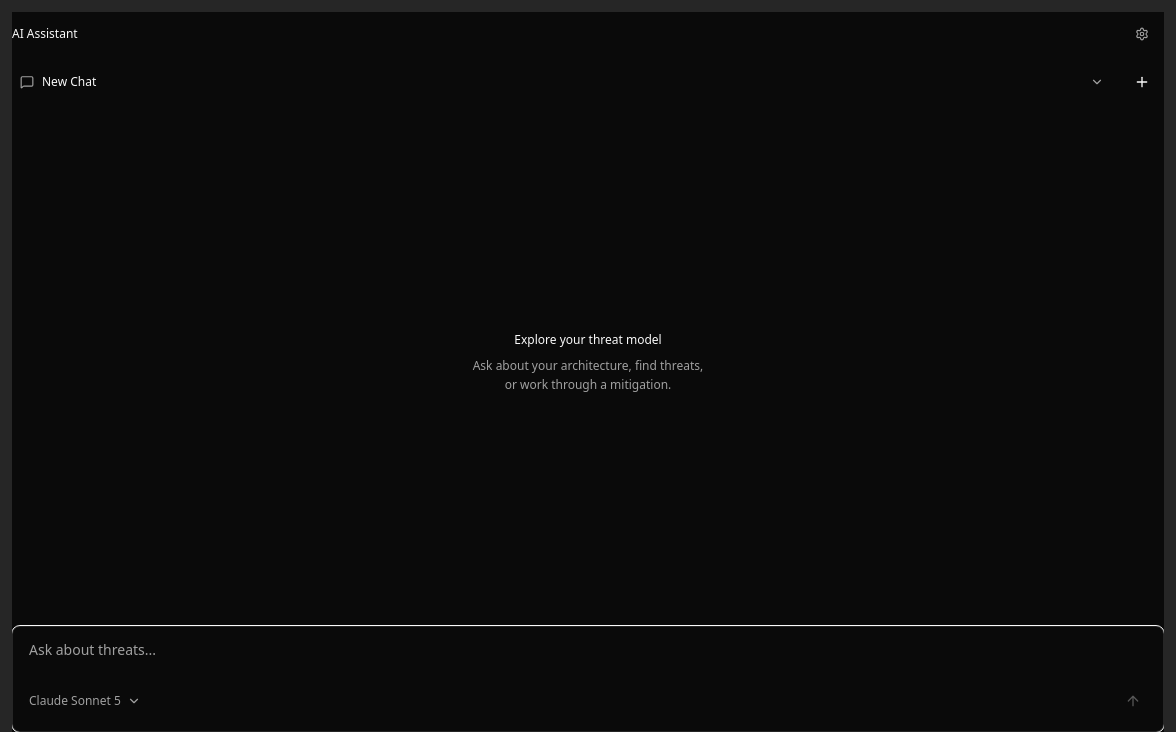
Test: AiChatTab session binding › keeps a draft editable while waiting for approval and refuses duplicate submits
The image size is (1176, 732).
Type "Add cache" into the text box named "Message AI assistant" at [588, 657], box [21,635,1155,679]
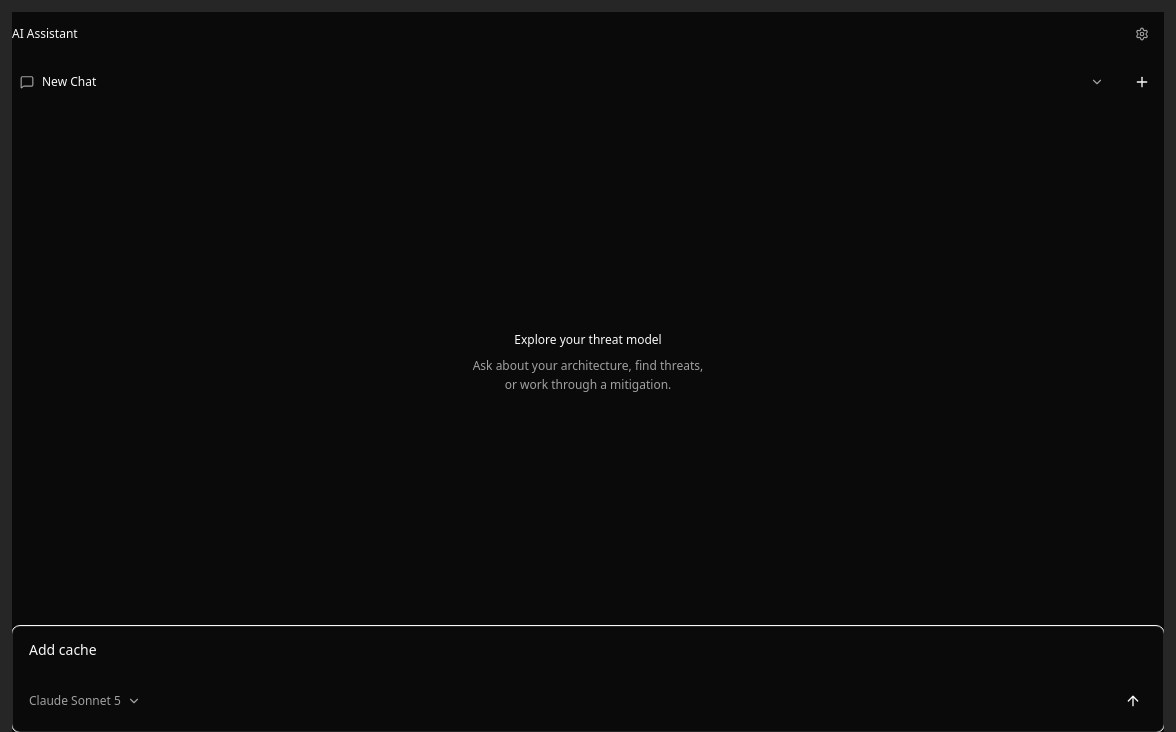
Press Enter in the text box named "Message AI assistant", box [21,635,1155,679]
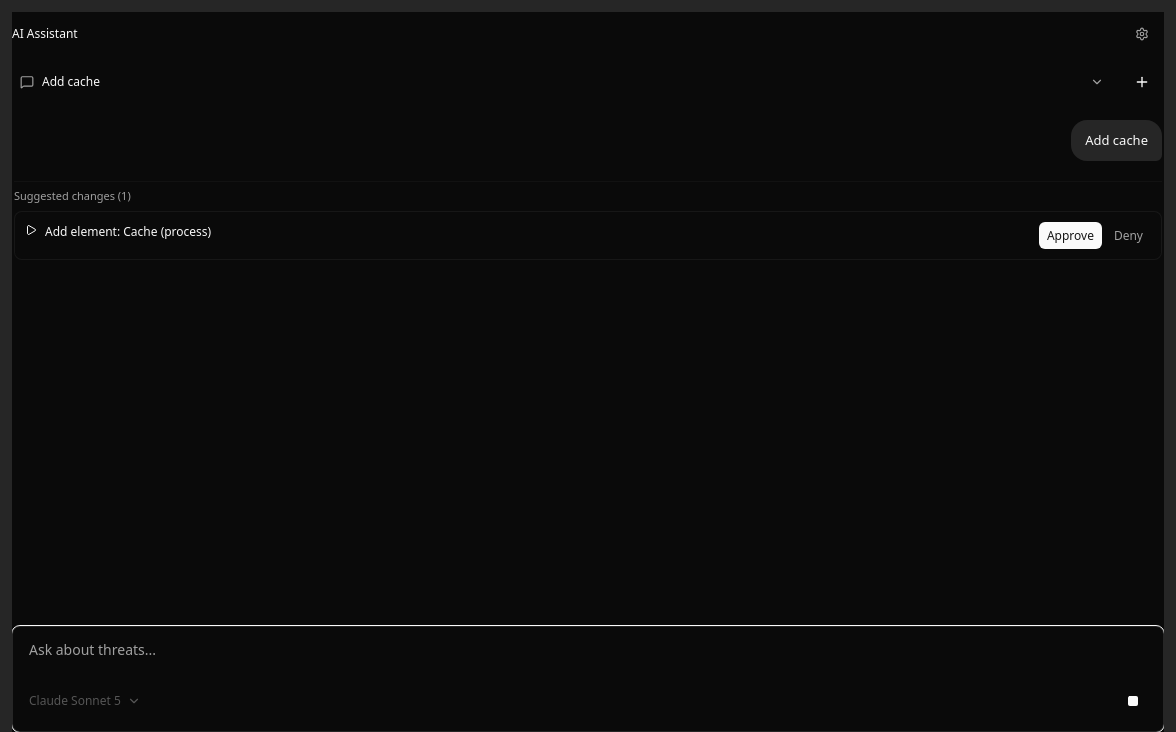
Check: the button named "Stop response" is shown, box [1111,679,1155,723]
Check: the button with aria-label "Model" is disabled, box [21,679,149,723]
Type "Next question draft" into the text box named "Message AI assistant" at [588, 657], box [21,635,1155,679]
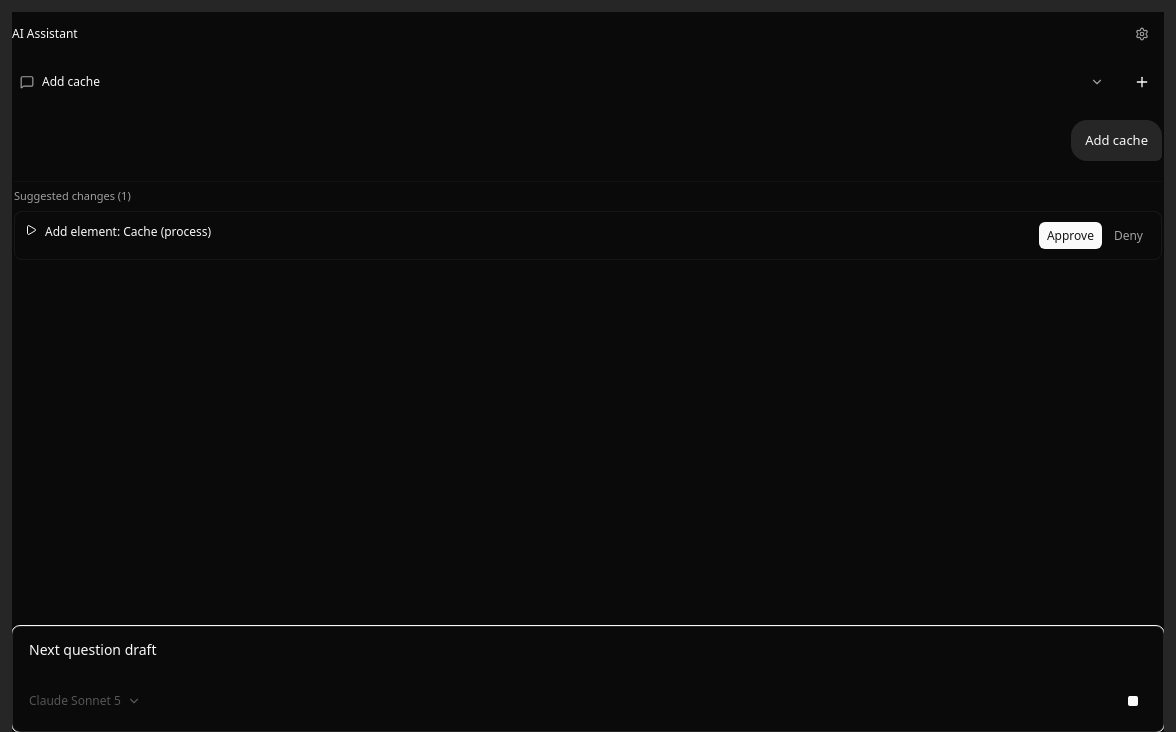
Press Enter in the text box named "Message AI assistant", box [21,635,1155,679]
Press Escape in the text box named "Message AI assistant", box [21,635,1155,679]
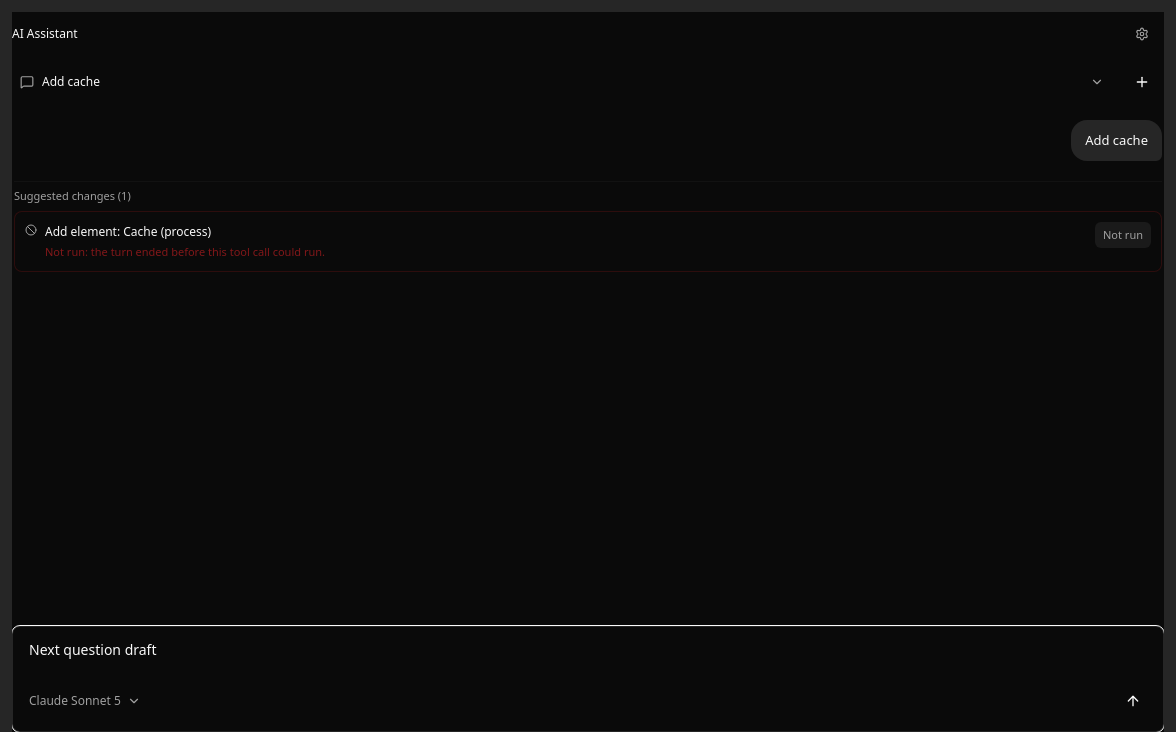
Check: the button with aria-label "Model" is enabled, box [21,679,149,723]
